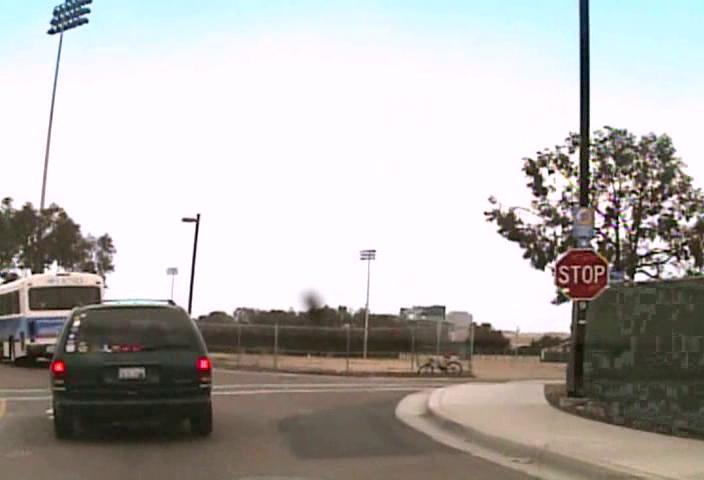stop: (554, 248, 609, 300)
